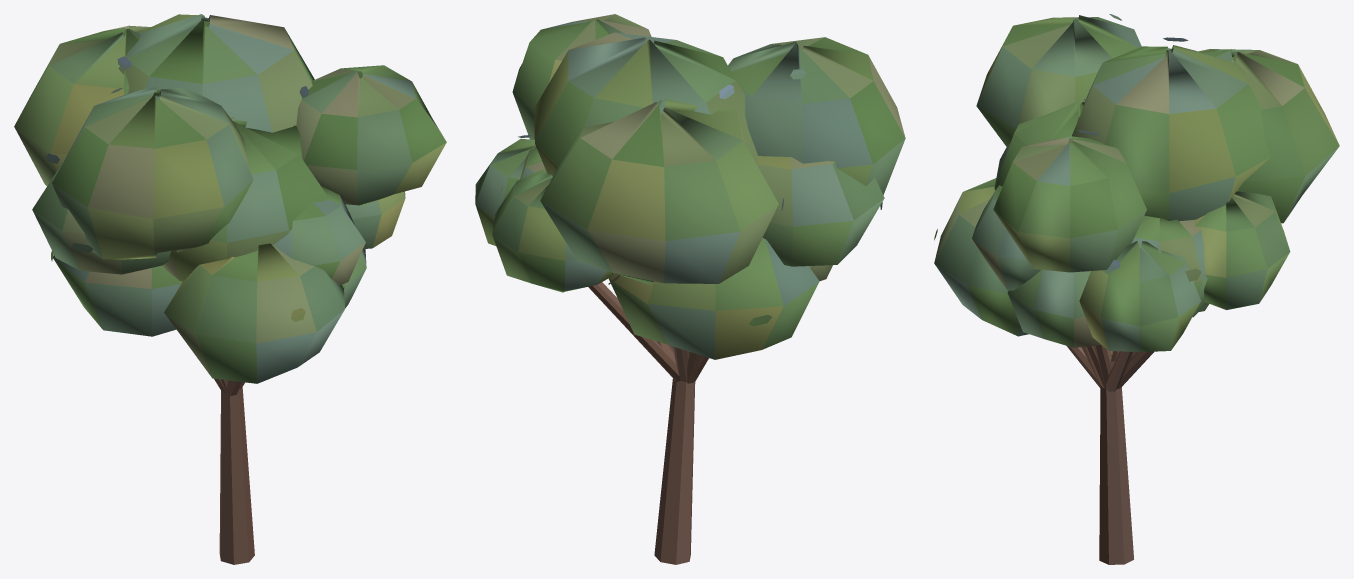
File: HK_Tree_Round.lod.glb
3 renders of one model, left to right at view 1: azimuth 30°, elevation 25°; view 2: azimuth 150°, elevation 25°; view 3: azimuth 270°, elevation 25°, orthographic. The views are drawn at different scales.
Parts seen in each view (by area): view 1: HK_Tree_Round; view 2: HK_Tree_Round; view 3: HK_Tree_Round.
Part boxes in pixels (x1=…): HK_Tree_Round: x1=14, y1=14, x2=446, y2=564; HK_Tree_Round: x1=475, y1=14, x2=905, y2=564; HK_Tree_Round: x1=934, y1=14, x2=1339, y2=564.
Size of the model in its own units: 5.12 by 6.94 by 4.99.
